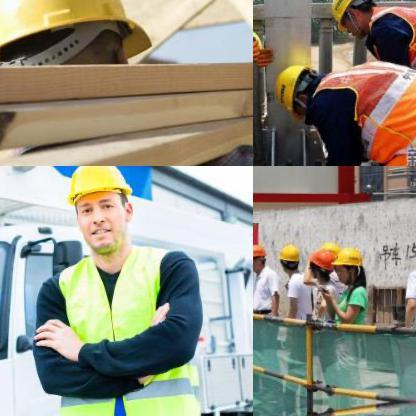Helmet: (0, 0, 181, 105), (62, 166, 136, 251), (275, 61, 319, 115), (327, 0, 376, 36), (334, 244, 362, 282), (310, 244, 334, 278), (276, 240, 298, 271), (253, 25, 268, 64), (253, 241, 266, 271)
